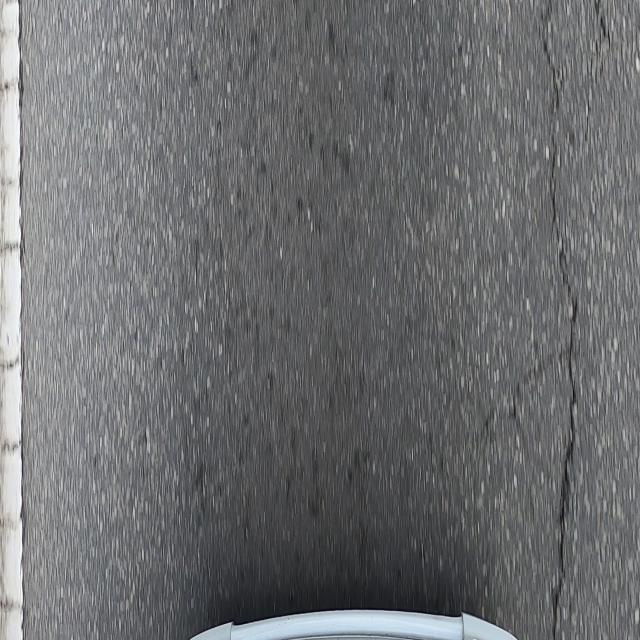Retak-Memanjang: (537, 0, 579, 638)
